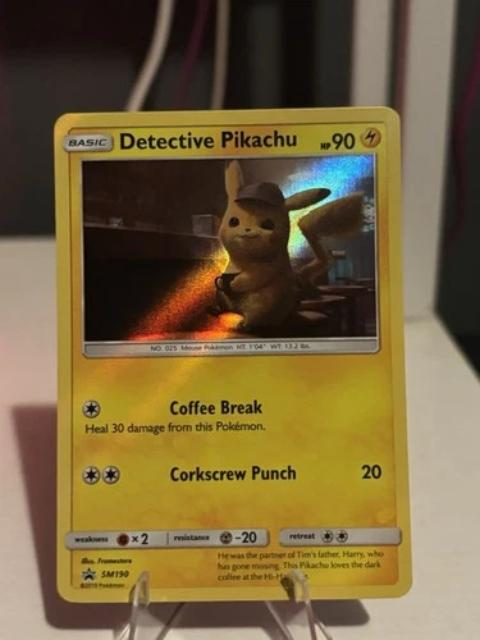Card: (47, 101, 416, 611)
Name: (116, 124, 300, 157)
